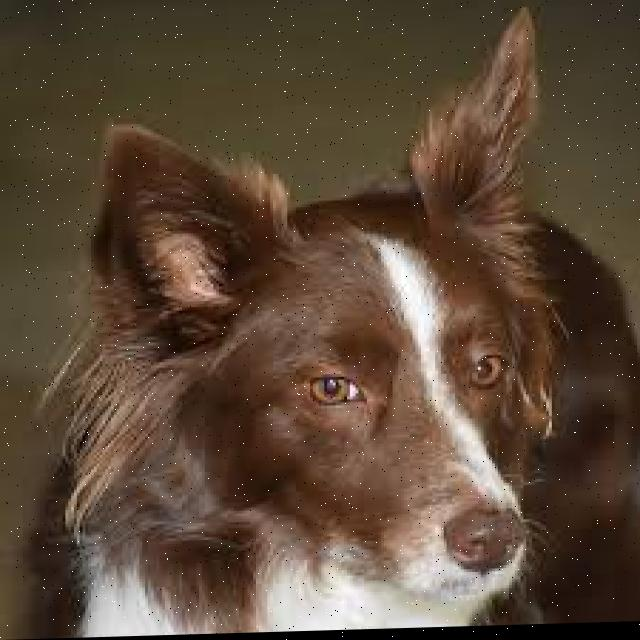ALASKAN_MALAMUTE: (32, 2, 577, 639)
